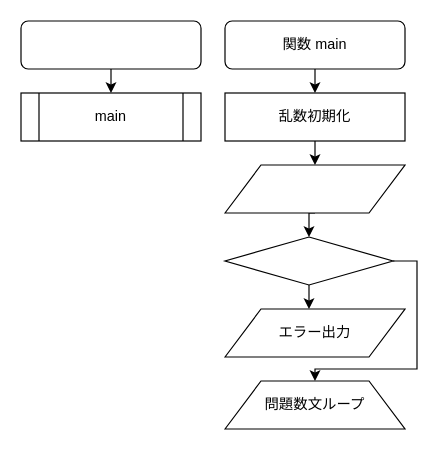
Some shapes in this 448 by 450 pixel diagram are drawn without their labels. Each missing label, with the centre of its shape:
"AP.csv読み込み" goes at (x=314, y=188).
"ファイル無し" goes at (x=308, y=260).
"起動" goes at (x=110, y=44).
